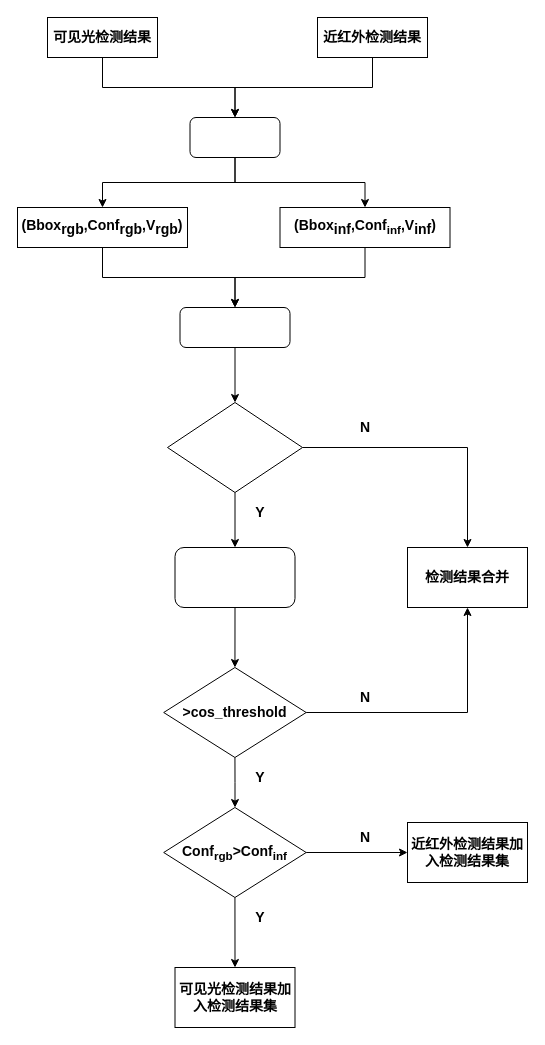
Some shapes in this 545 by 1045 pixel diagram are drawn without their labels. Here are the shapes that lost their labels. From the top down, the box of each, then its label:
(189, 116, 280, 158): 特征提取
(179, 306, 290, 348): IOU矩阵计算
(166, 402, 302, 492): >IOU_threshold
(174, 546, 295, 608): 特征余弦相似度计算
